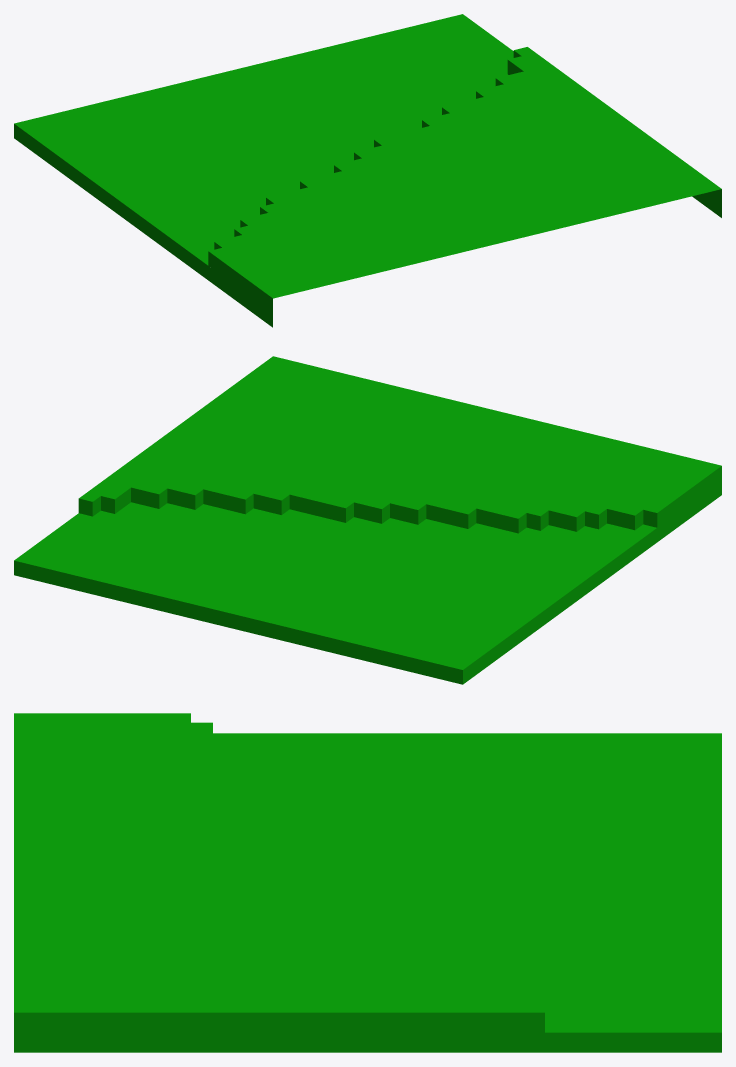
The model's file is Slant1.fbx.
The picture shows the model from 3 angles, top to bottom: view 1: azimuth 30°, elevation 25°; view 2: azimuth 150°, elevation 25°; view 3: azimuth 270°, elevation 25°; orthographic projection. The views are drawn at different scales.
Parts seen in each view (by area): view 1: Matrix; view 2: Matrix; view 3: Matrix.
Boxes of the visible parts, bbox=[...] form: Matrix: bbox=[14, 14, 721, 327]; Matrix: bbox=[14, 356, 721, 684]; Matrix: bbox=[14, 713, 721, 1052].
Bounding box in the file's own units: 32 × 2 × 32.
1 material, 1 textured.
